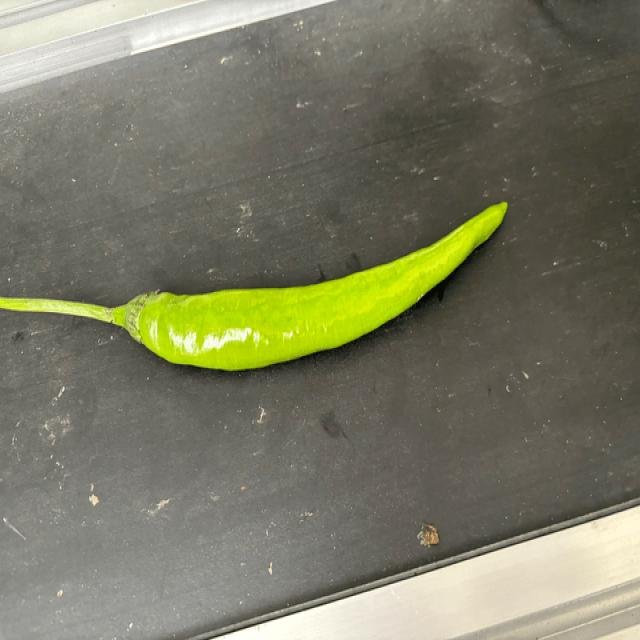chili: (124, 197, 510, 373)
